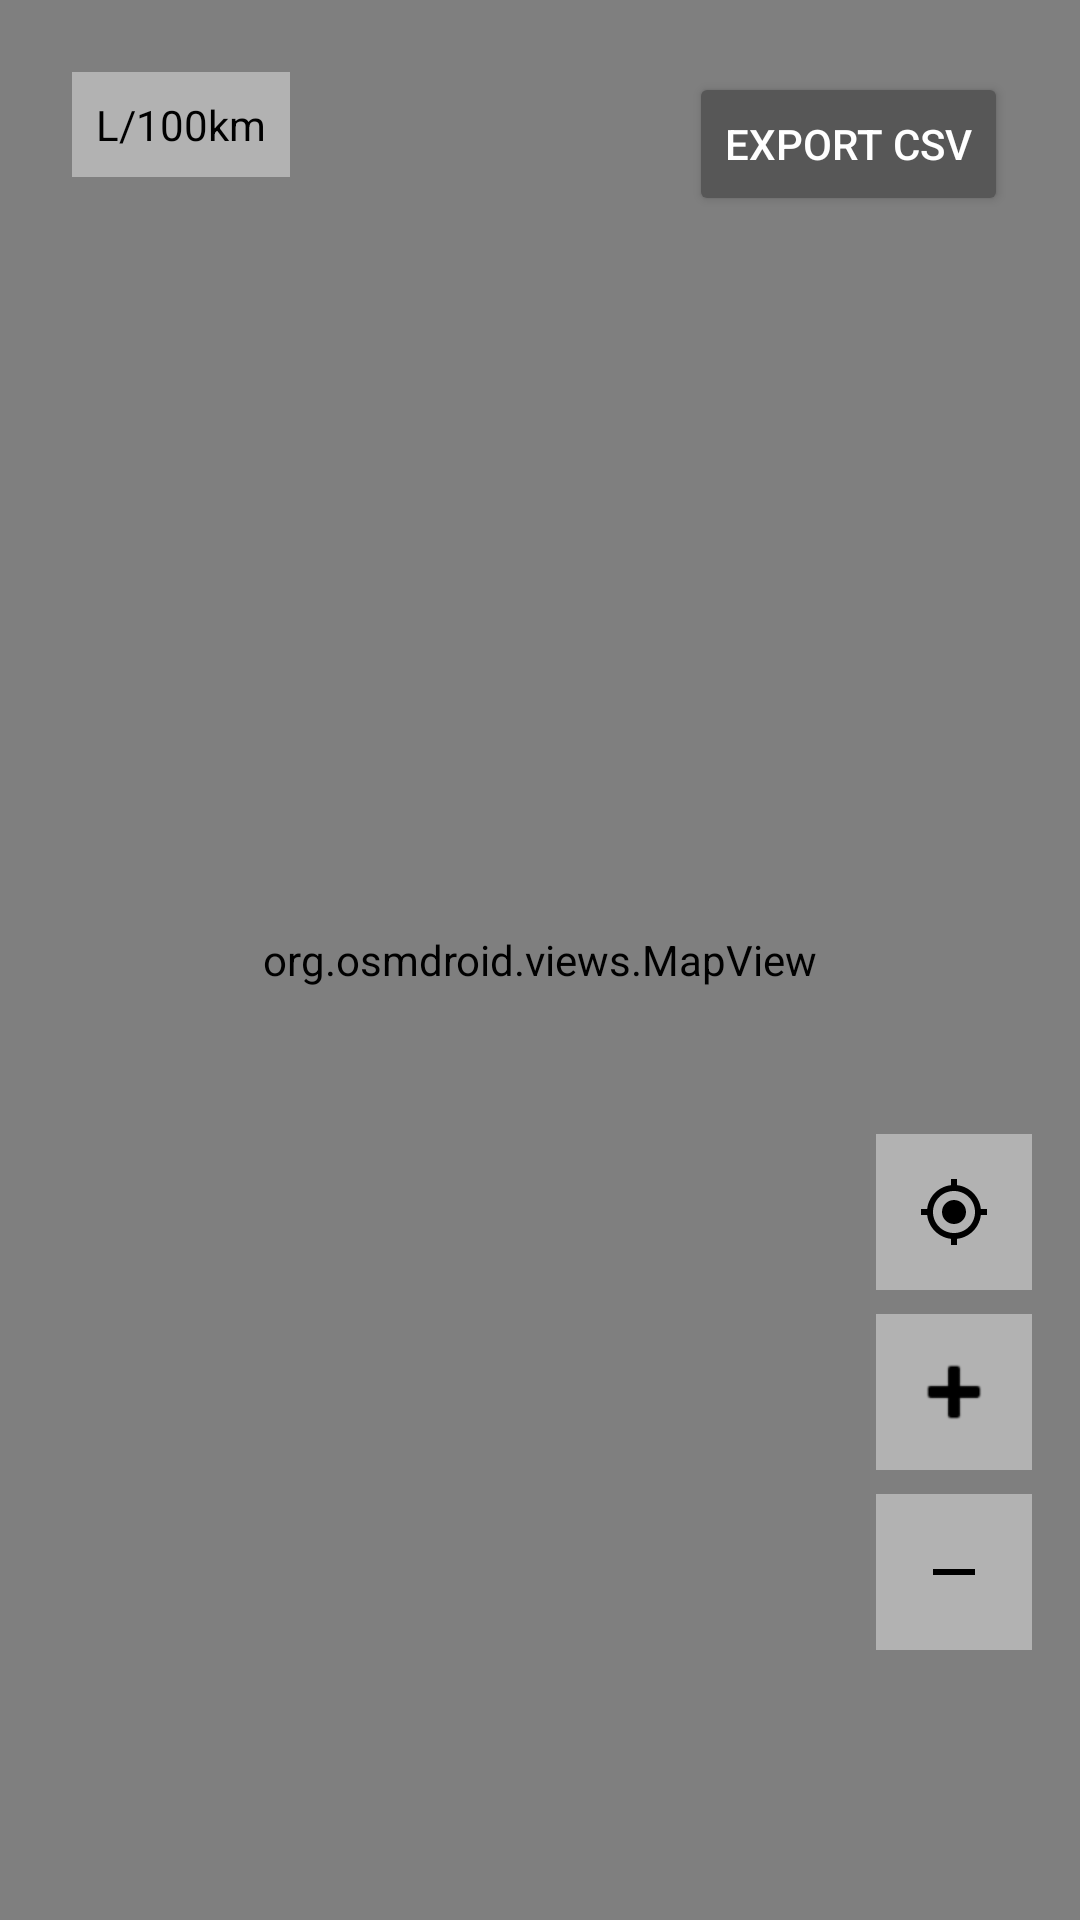

Icons on this 1080 × 1920 Android screen, each with the point to tap as point (x, y):
Follow / Free Pan: point (954, 1212)
Zoom In: point (954, 1392)
Zoom Out: point (954, 1572)
